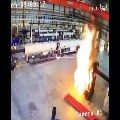fire: (74, 23, 94, 96)
